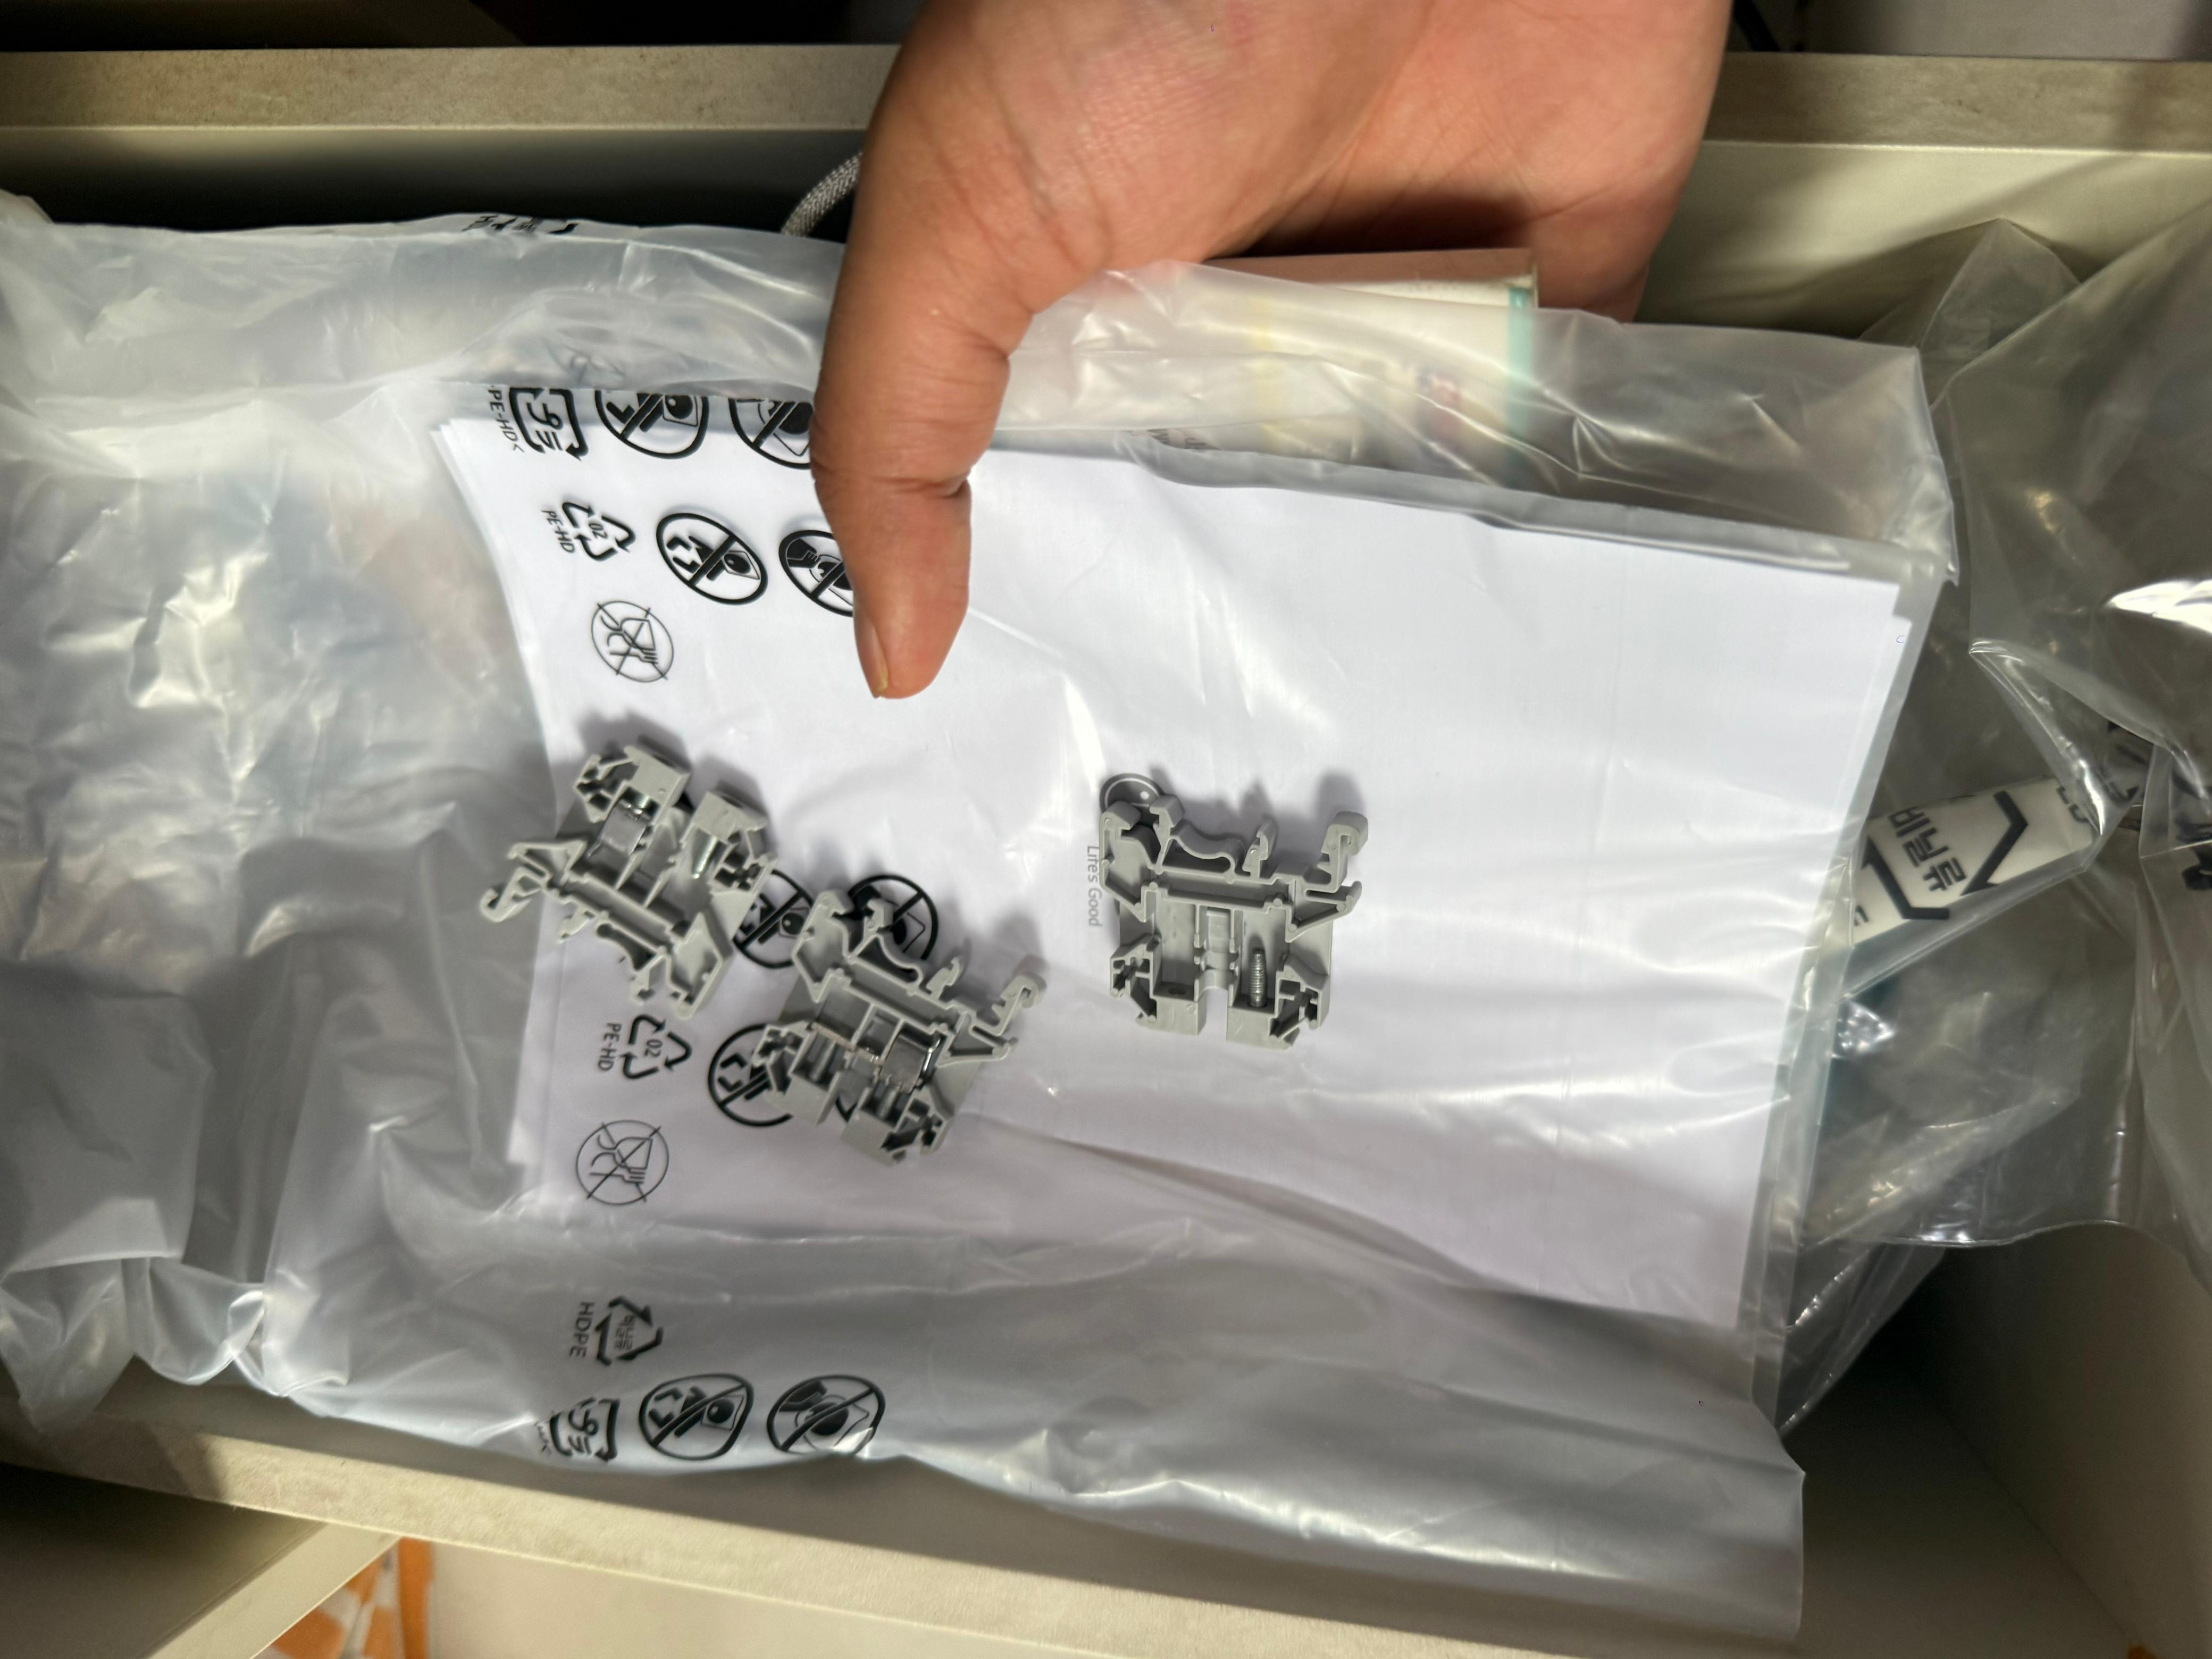Reject: (475, 741, 772, 1009), (754, 890, 1049, 1157), (1096, 796, 1367, 1044)
